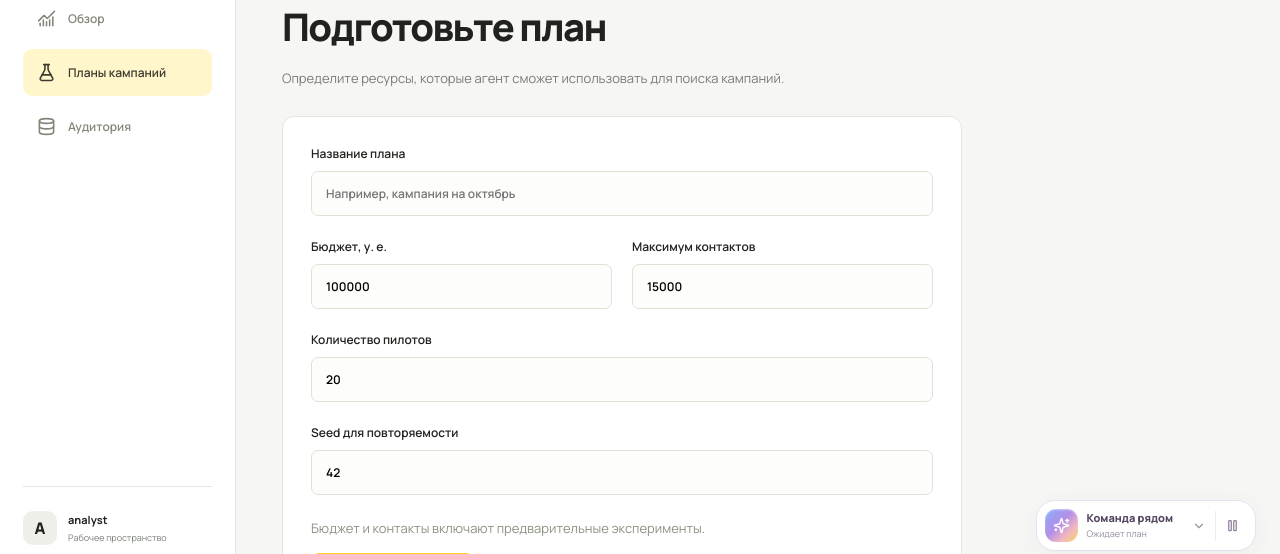
Test case: пользовательский сценарий › создаёт черновик и открывает доступный запуск
Type "Осенняя кампания" into the field labelled "Название плана".
click(622, 193); type("Осенняя кампания")  # box x1=311 y1=171 x2=933 y2=216
(page scrolled)
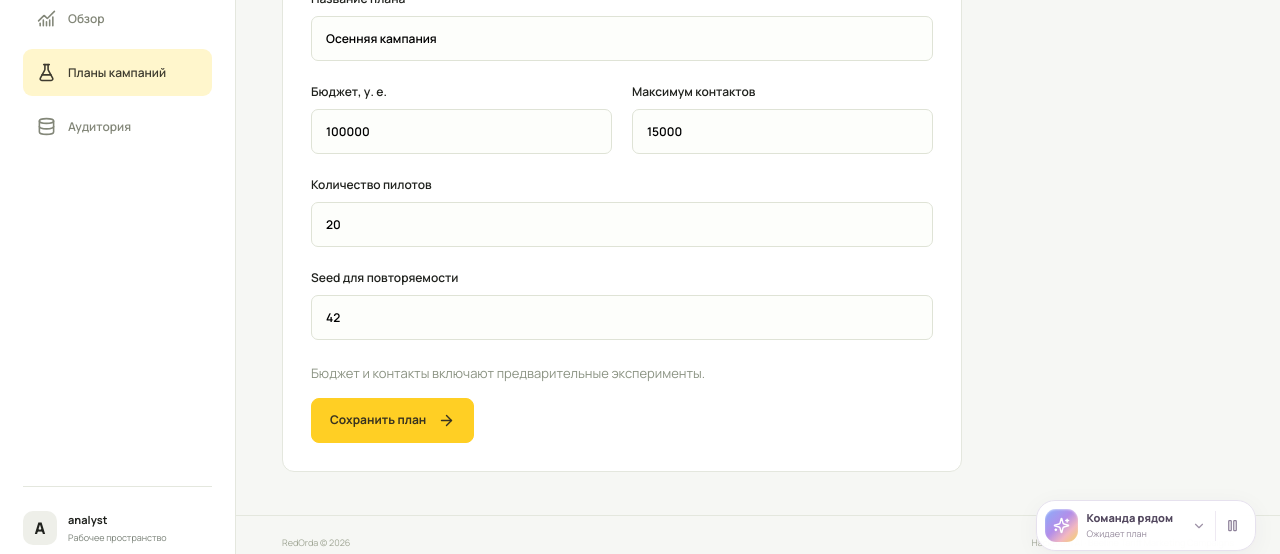
Click the button "Сохранить план".
click(393, 421)  # box x1=311 y1=398 x2=474 y2=443
(page scrolled)
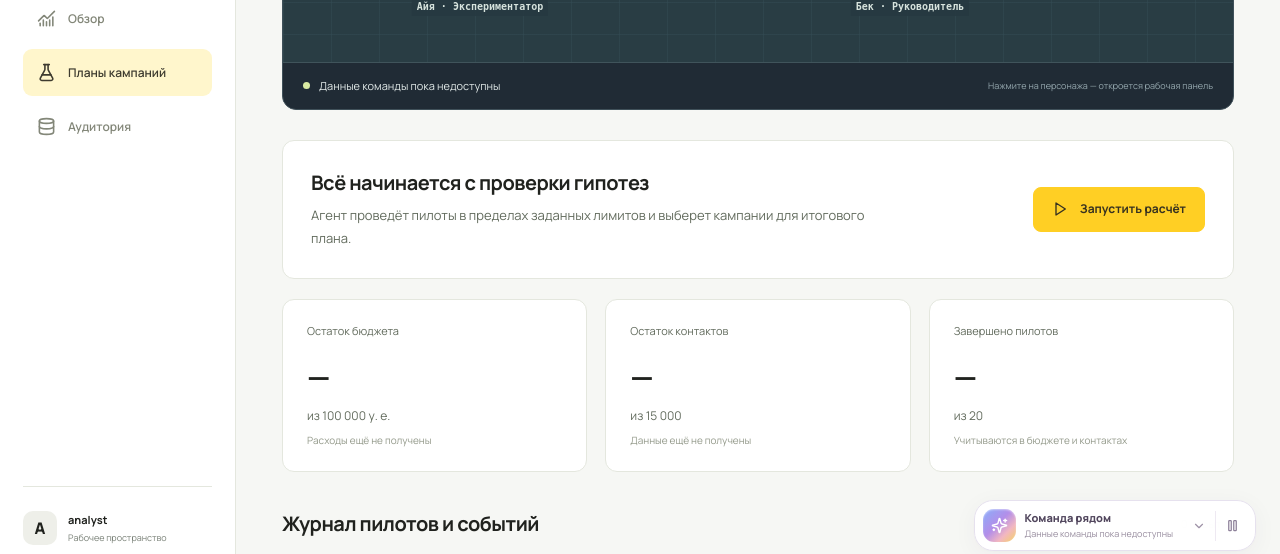
Check: the button "Запустить расчёт" is enabled, box x1=1033 y1=187 x2=1205 y2=232
